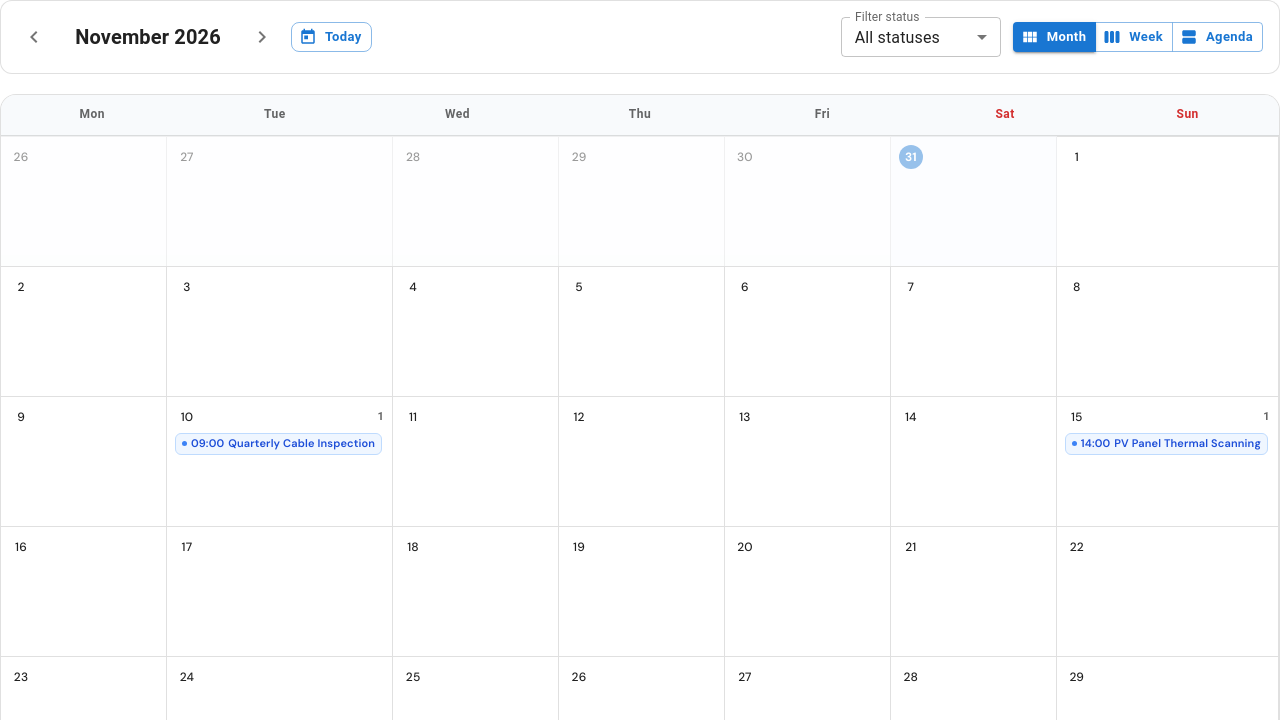
it: InspectorScheduleCalendar › navigates previous and next months when arrow buttons are clicked
Expected: the heading "November 2026" is shown, [63,21,233,53]
Click the button named "Next".
click(262, 37)  # box [245,20,279,54]
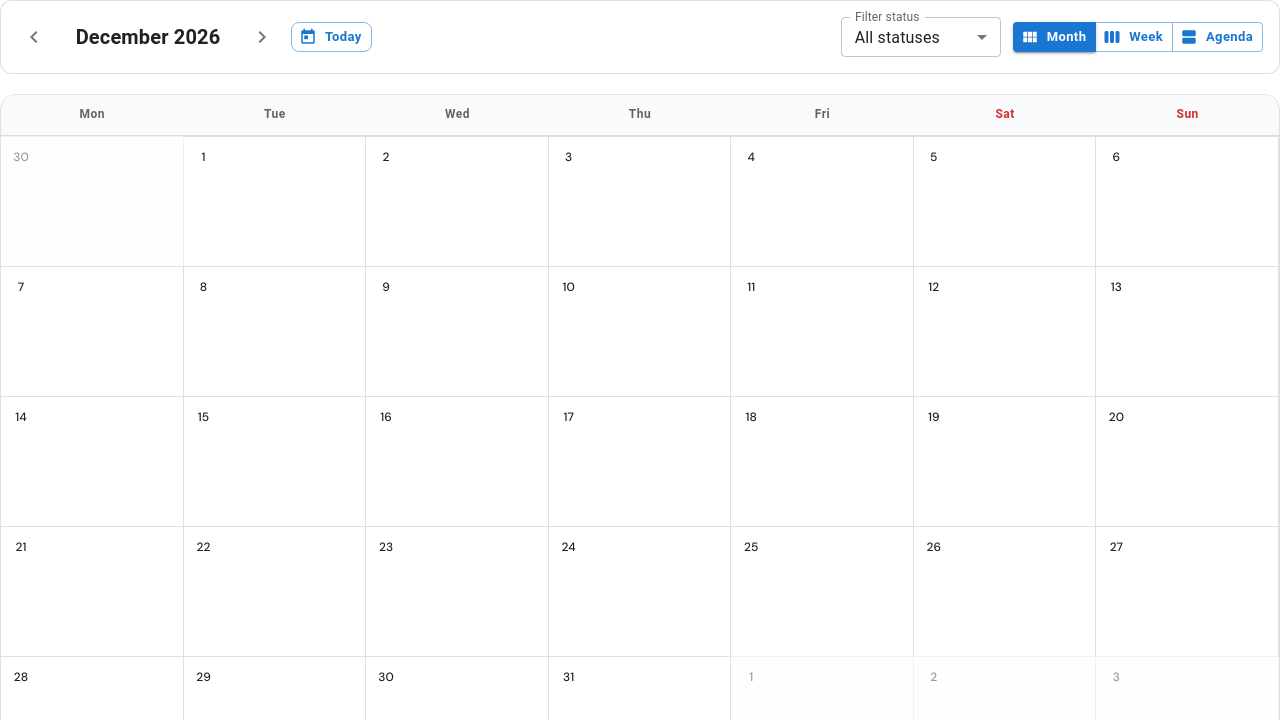
Now the heading "December 2026" is shown, box [63,21,233,53]
Click the button named "Previous".
click(34, 37)  # box [17,20,51,54]
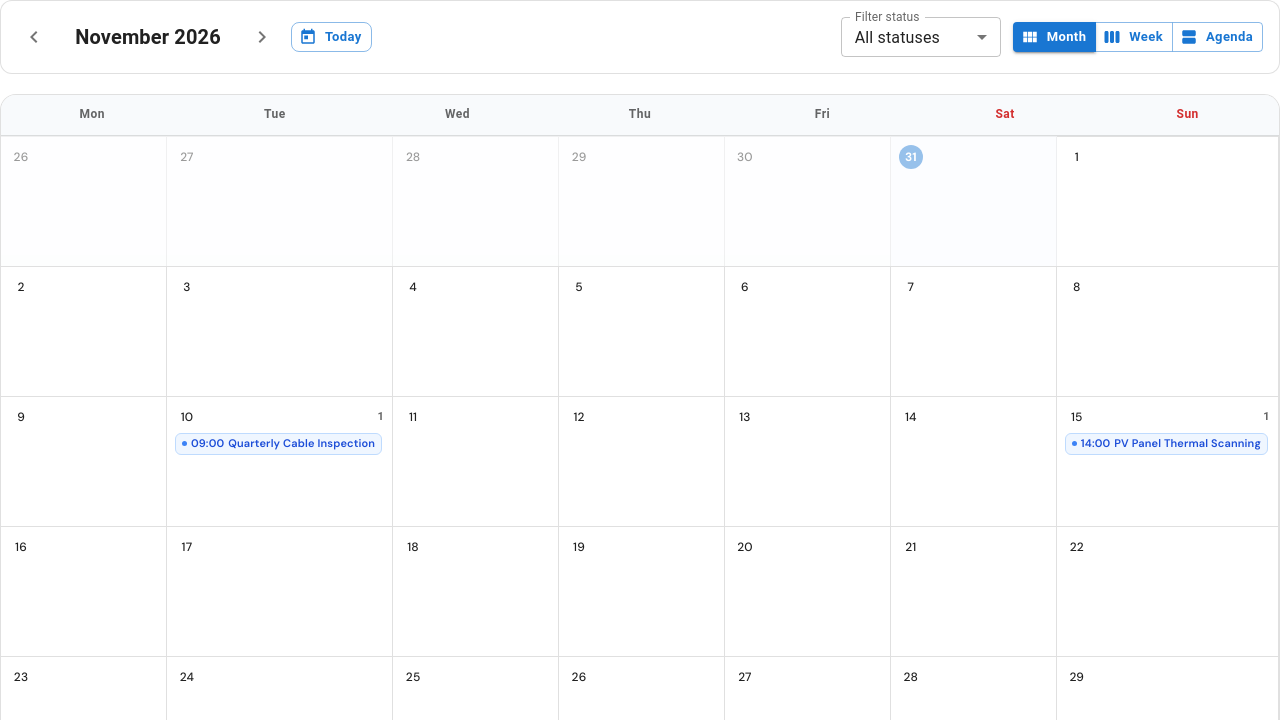
Now the heading "November 2026" is shown, box [63,21,233,53]
